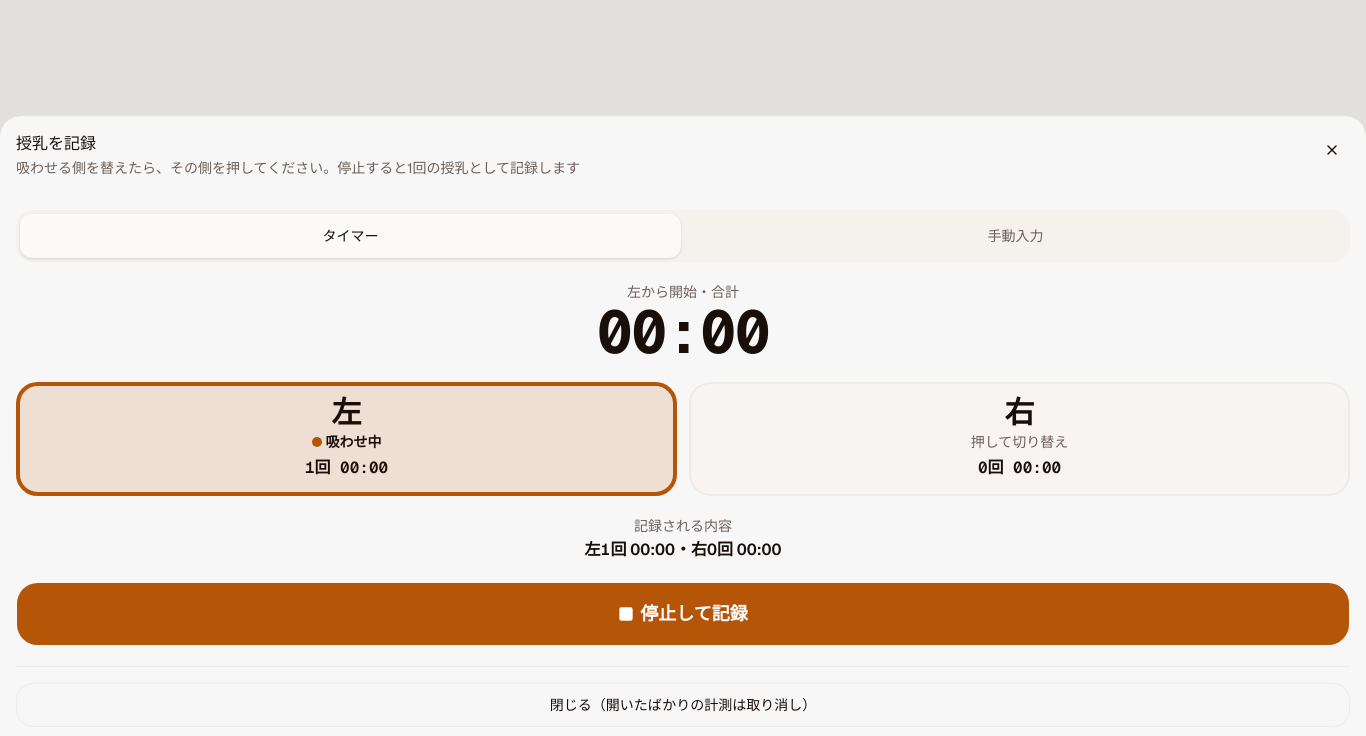
Test: FeedingTimer の stint 自動カウント（母乳サイクル） › 反対側のタップでその側のカウントが増え、現在側が切り替わる
The image size is (1366, 736).
Click the button "右 押して切り替え 0回 00:00". click: (1020, 439)
box: [689,382,1350,496]
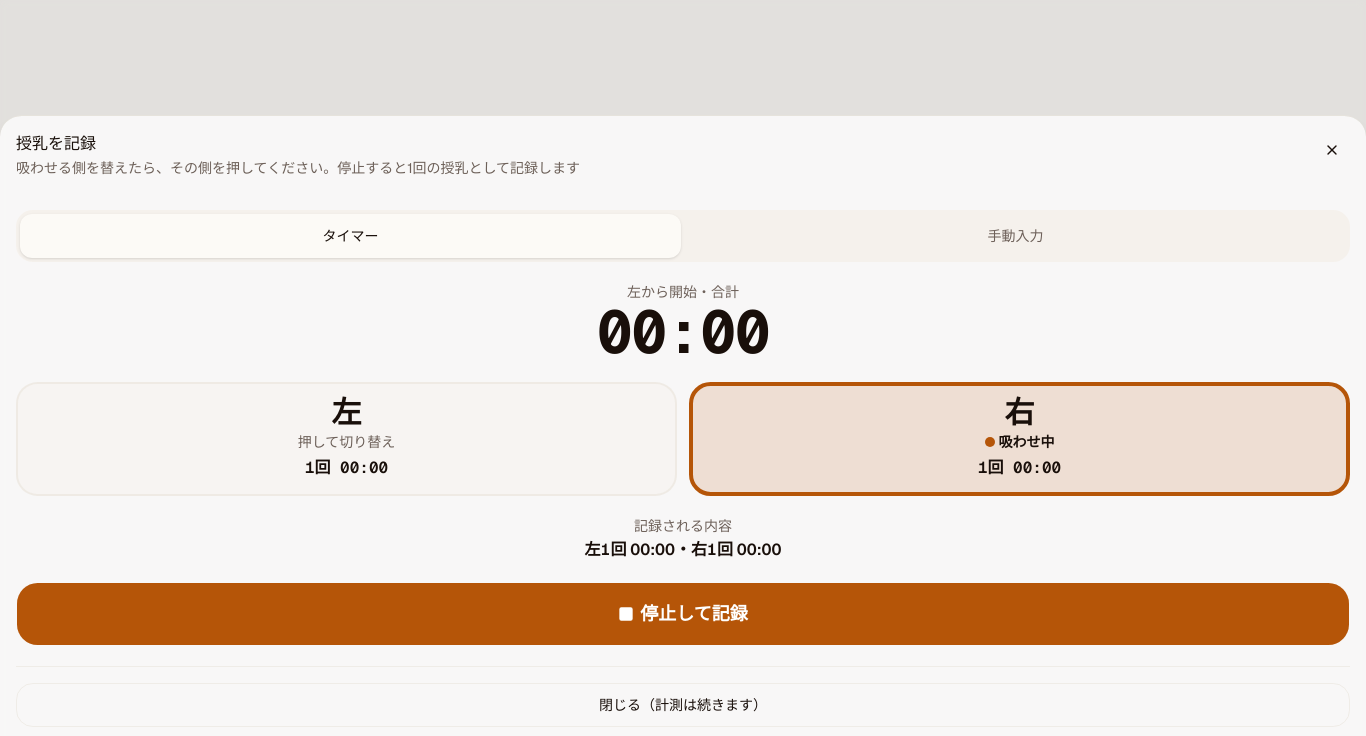
expect the text "左1回 00:00・右1回 00:00" is shown: met, box [584,538,782,562]
Click the button "左 押して切り替え 1回 00:00". click: (346, 439)
box: [16,382,677,496]
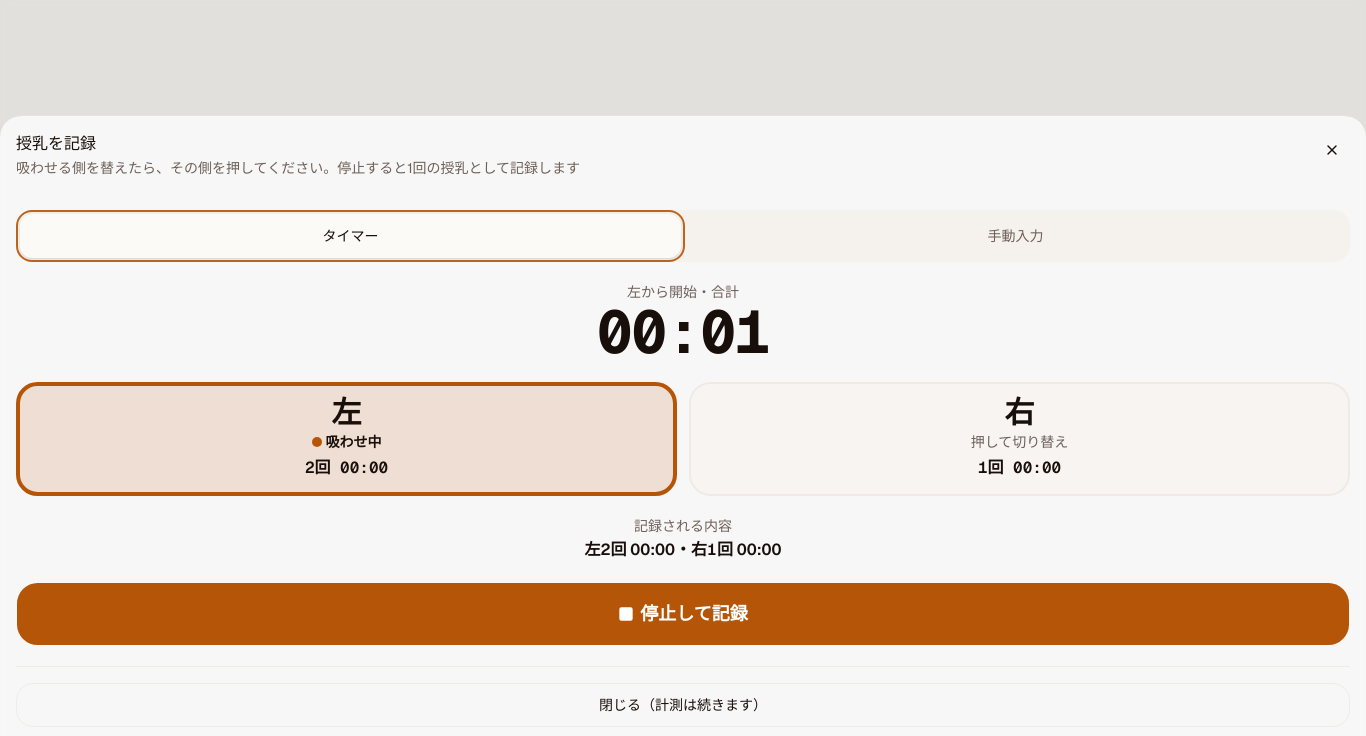
expect the text "左2回 00:00・右1回 00:00" is shown: met, box [584,538,782,562]
